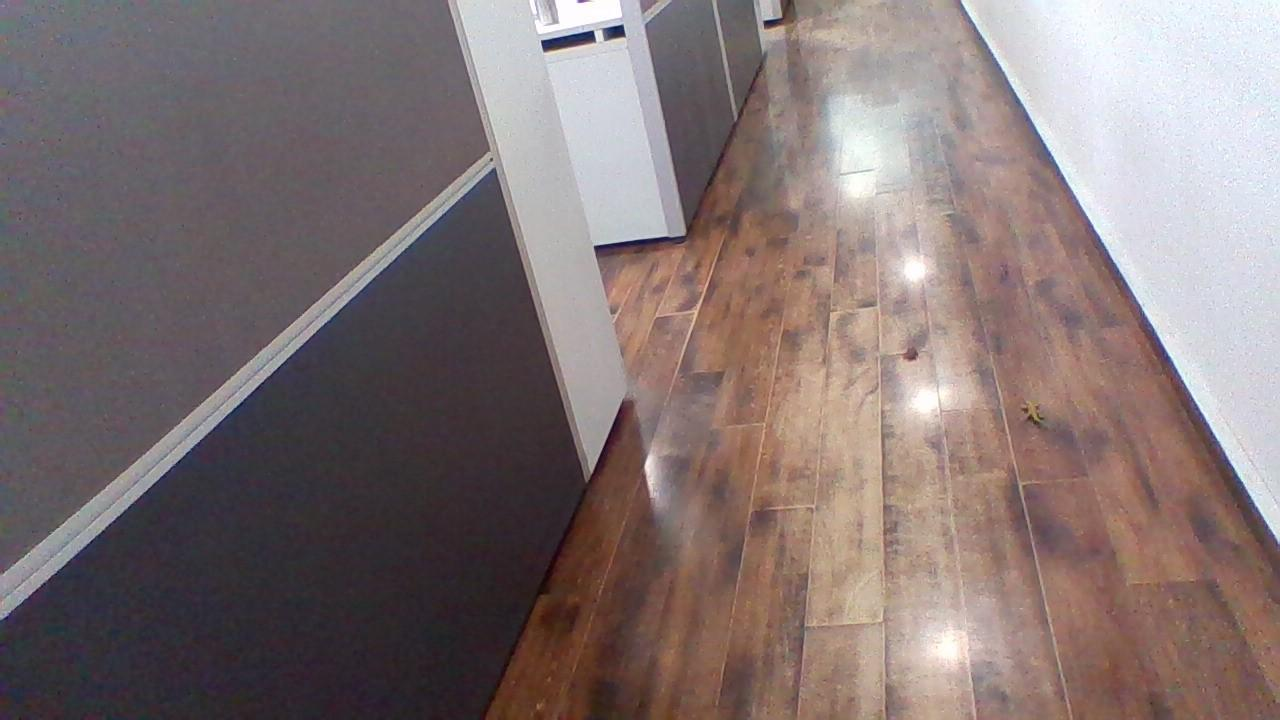cockroach: (903, 343, 921, 366)
lizard: (1006, 392, 1053, 432)
